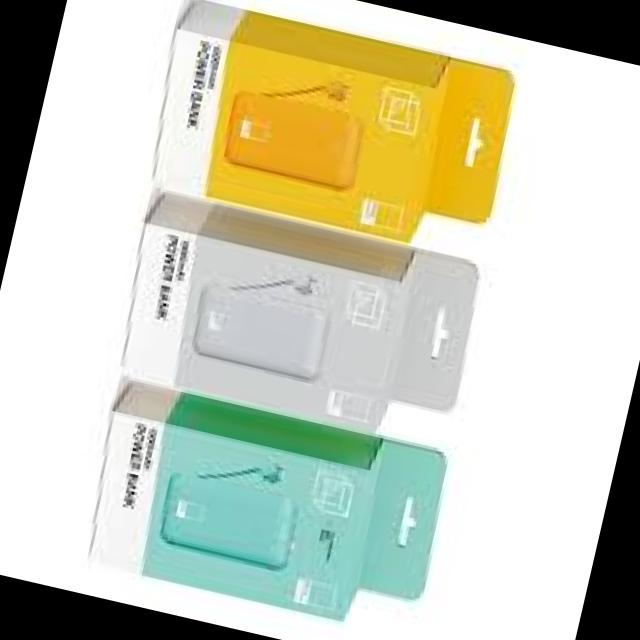portable-charger: (215, 82, 369, 197), (151, 466, 302, 575), (186, 277, 332, 388)
